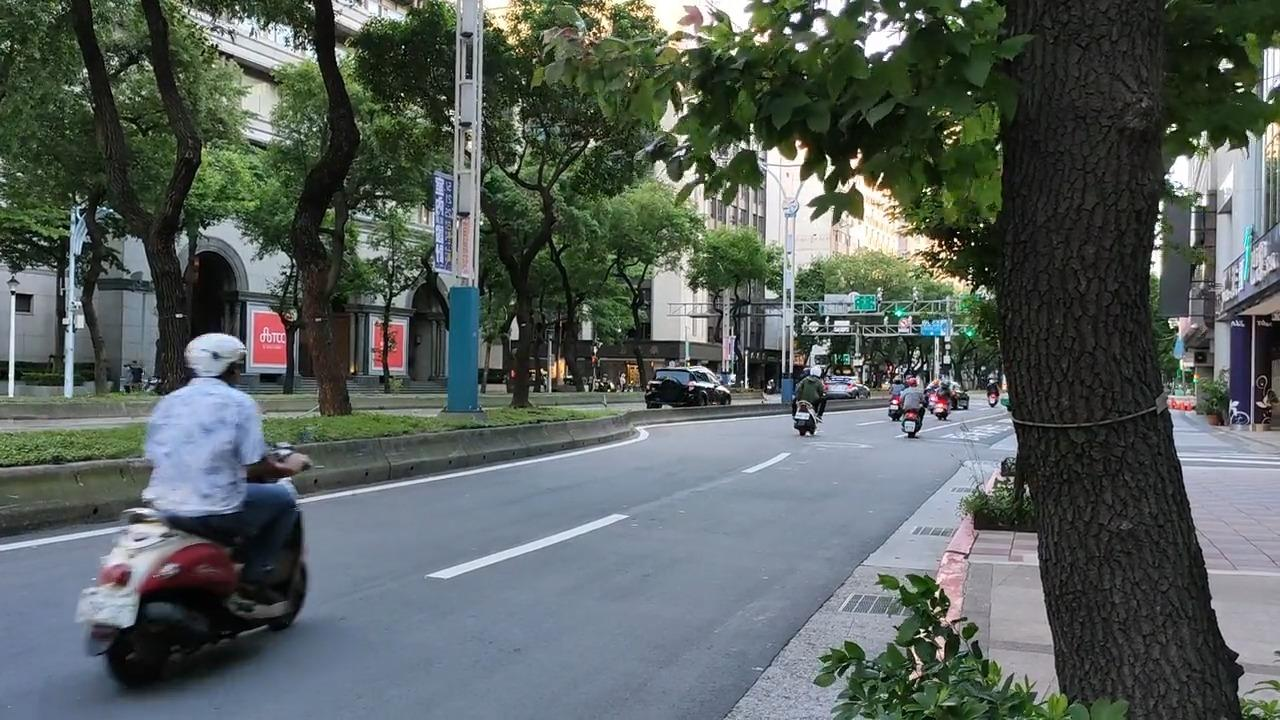driver: (74, 333, 314, 691)
helmet: (184, 333, 247, 389)
